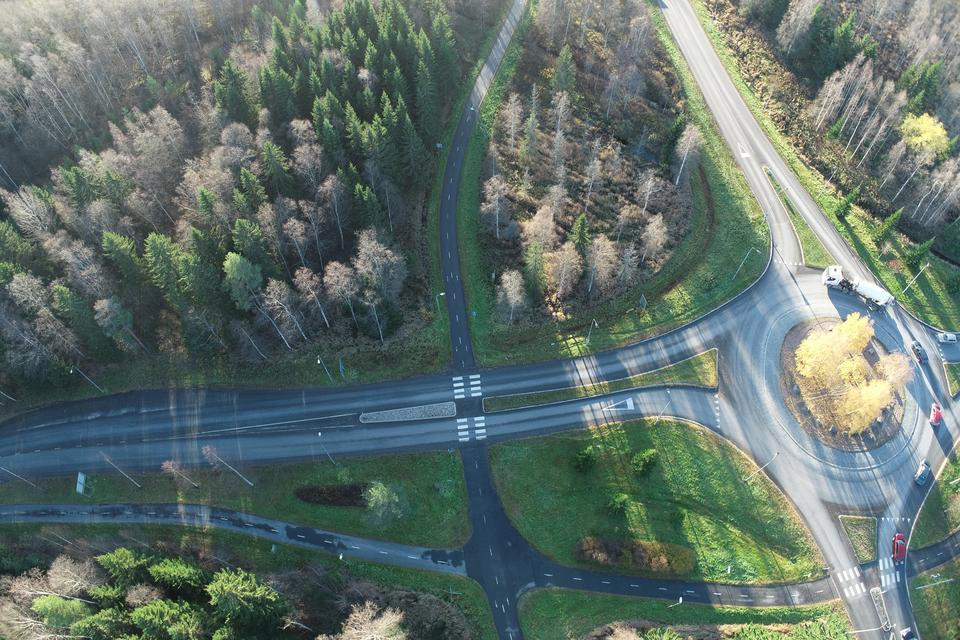intersection: (433, 344, 512, 469), (803, 544, 933, 617)
roundabout: (674, 218, 960, 531)
